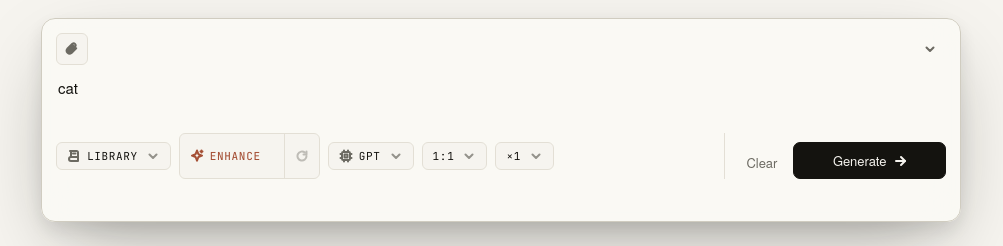
Test: Composer enhance › Templates and Clear are disabled while an enhance stream is open
The image size is (1003, 246).
Click the button "Enhance". click: [232, 156]
box: [180, 134, 284, 178]
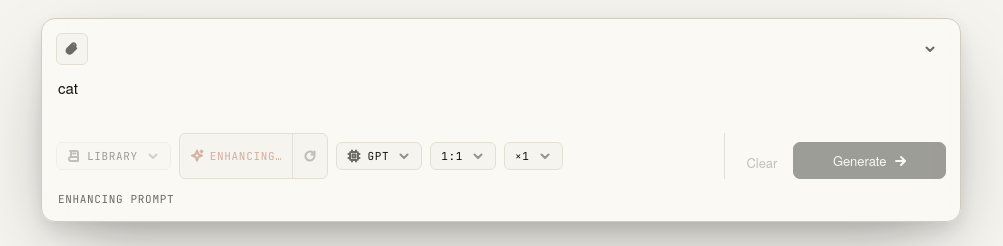
Now the button with aria-label "Enhance" is disabled, box [180, 134, 292, 178]
Now the button with aria-label "Templates" is disabled, box [56, 142, 171, 170]
Now the button with aria-label "Clear prompt and reference images" is disabled, box [738, 146, 785, 179]
